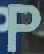Parking: (4, 1, 41, 49)
